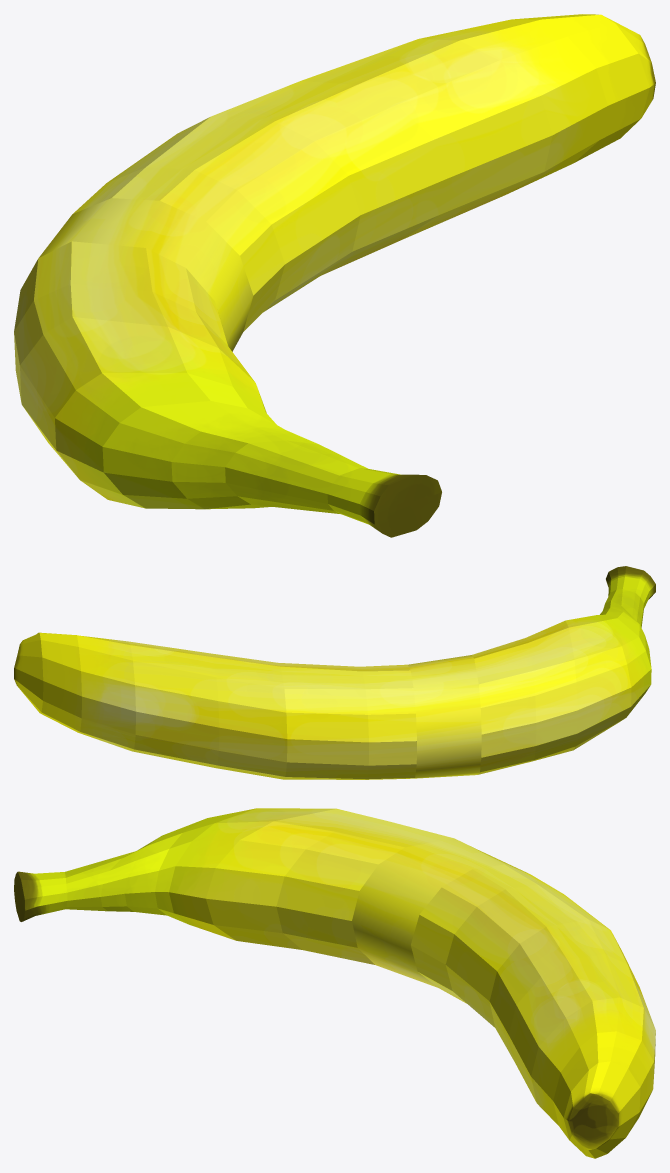
Rendered from banana.fbx.
The picture shows the model from 3 angles, top to bottom: view 1: azimuth 30°, elevation 25°; view 2: azimuth 150°, elevation 25°; view 3: azimuth 270°, elevation 25°; orthographic projection. The views are drawn at different scales.
Visible parts, largest first — view 1: Banana; view 2: Banana; view 3: Banana.
Part boxes in pixels (<box>): Banana: <box>14,14,655,537</box>; Banana: <box>14,566,655,779</box>; Banana: <box>14,808,655,1158</box>.
Bounding box in the file's own units: 1.31 × 0.2659 × 1.23.
Materials: 1 (1 with a texture image).
